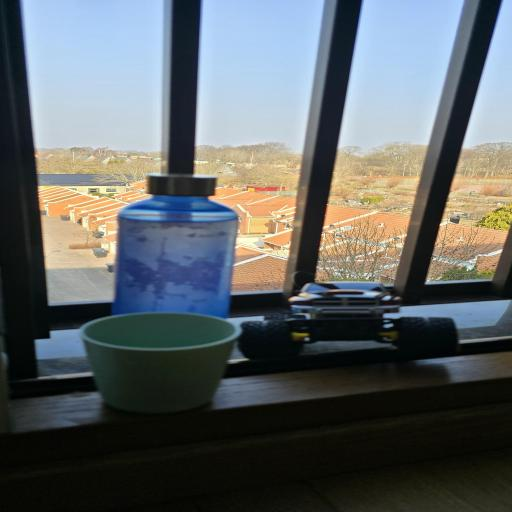bottle: (141, 173, 233, 309)
